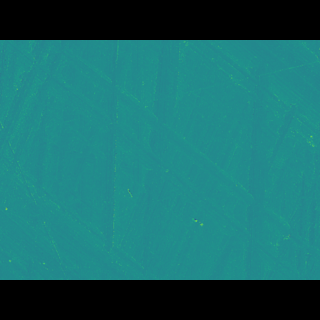Loch: (32, 91, 294, 242)
